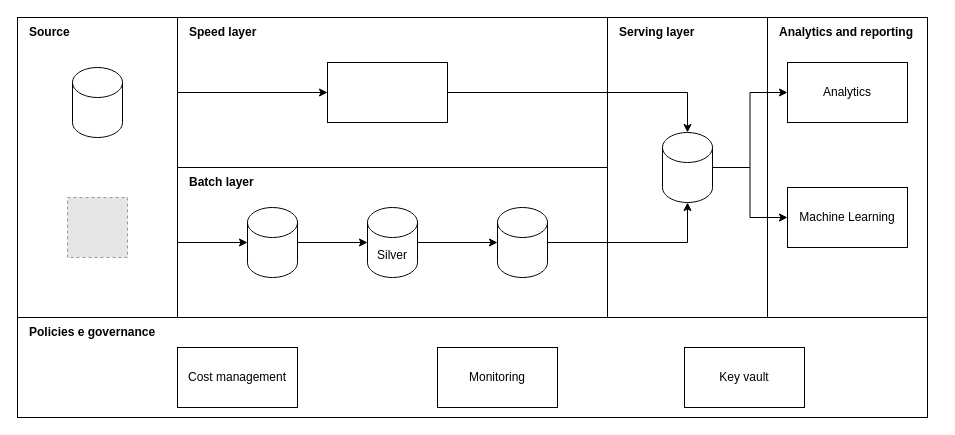
The diagram is 955 pixels wide and 435 high, and some of its shapes have lost their labels. Grey dashed boxes stand in for pictures. Here are the shapes that lost their labels. From the top down, the centre of each, then its label:
At (387,92): "Stream processing".
At (272,242): "Bronze".
At (522,242): "Gold".
